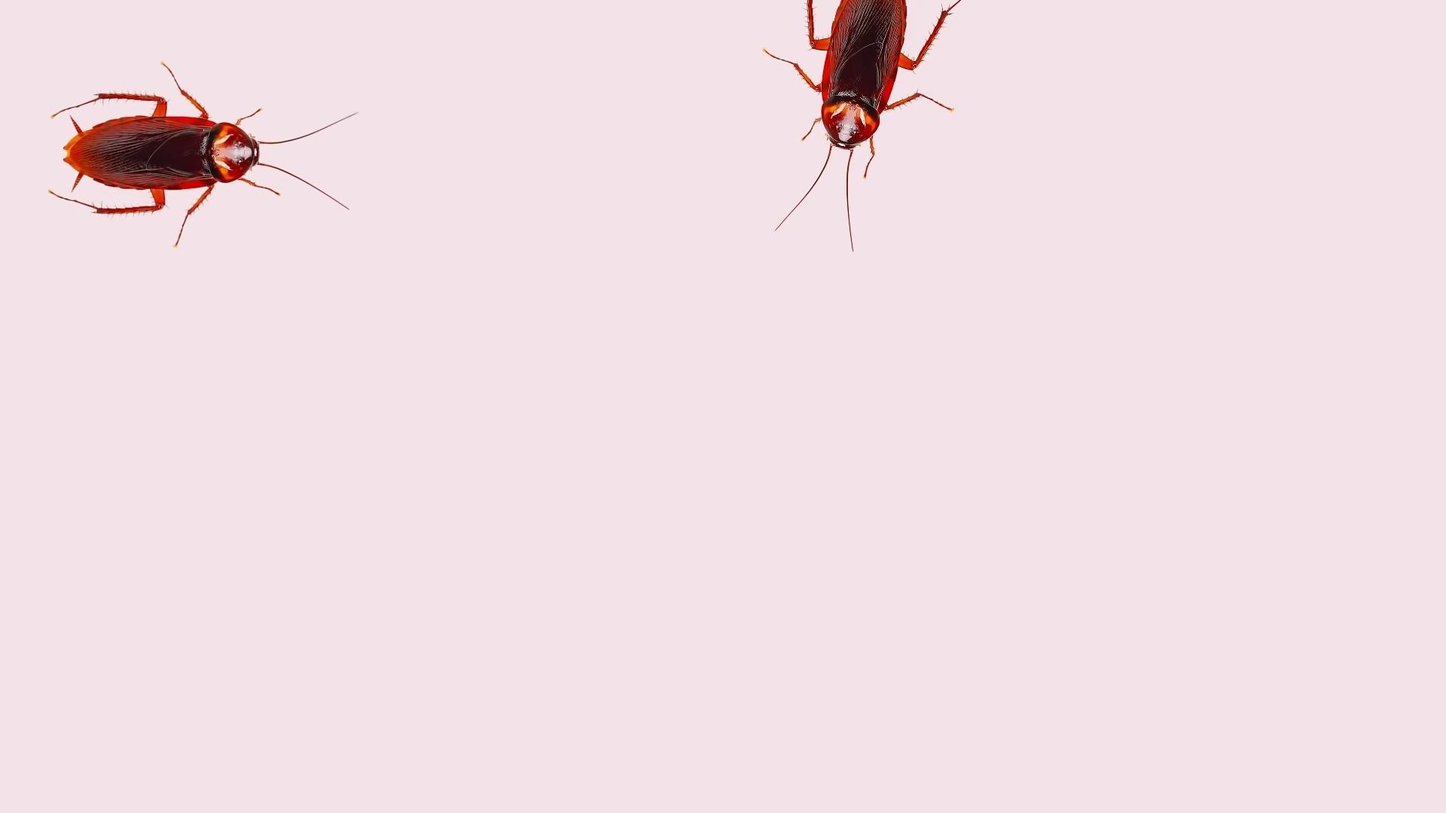cockroach: (45, 61, 360, 245), (762, 1, 957, 249)
